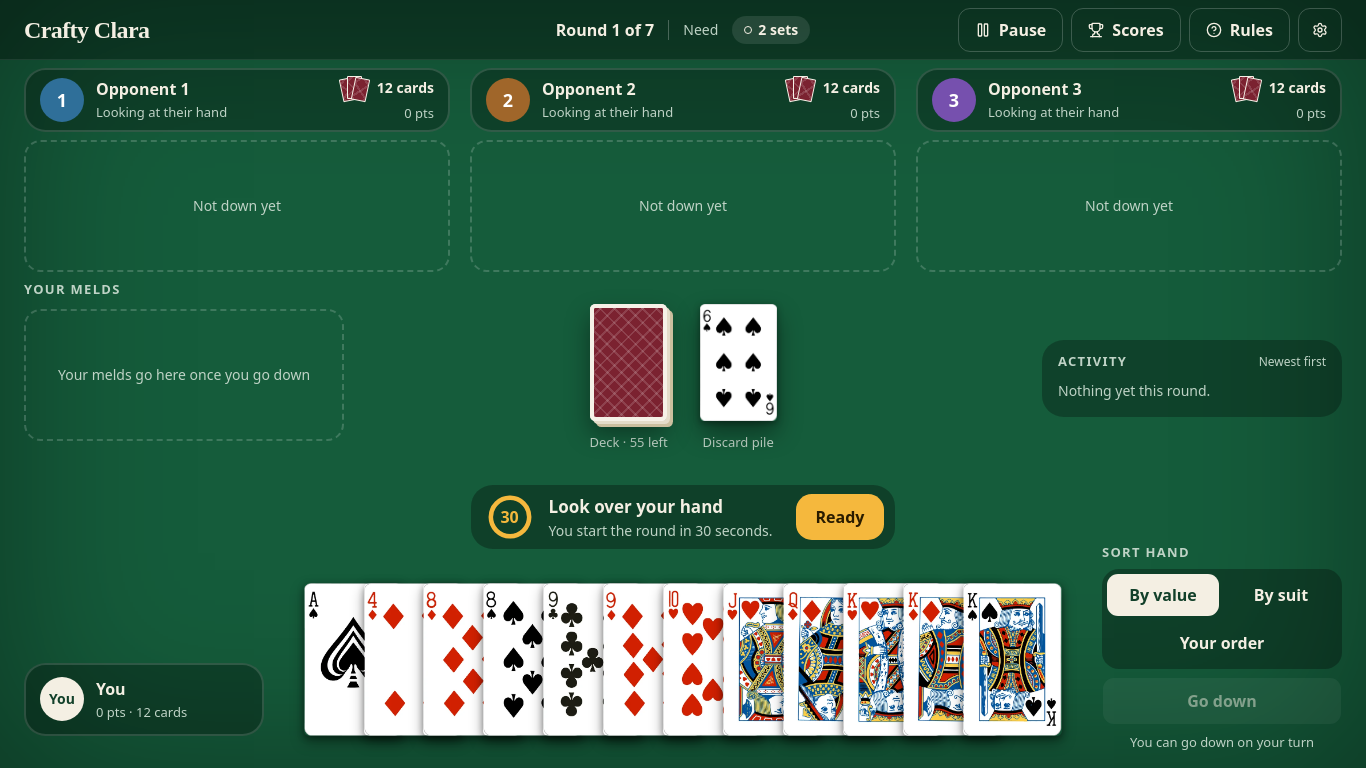
Test: holds the game while the rules, the scores or the settings are open
Check: the element named "Your hand" is shown, box [288,560,1078,752]
What coordinates should you click on to do the following:
click the button "Rules"
I would click on:
 (1239, 30)
Its box is [1189,8,1290,52].
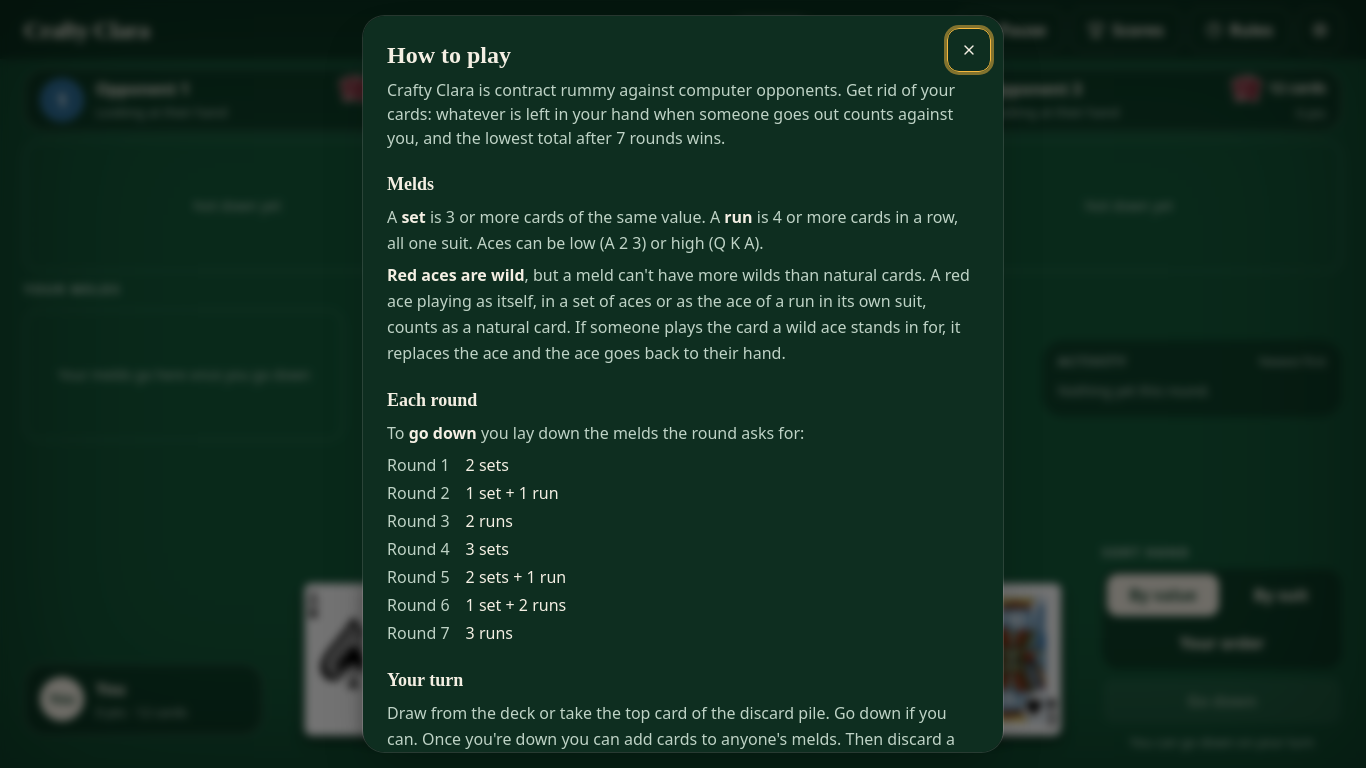
Check: the dialog "Paused" is not shown
What coordinates should you click on to do the following:
click the button named "Close"
I would click on:
 (969, 50)
Its box is [947,28,991,72].
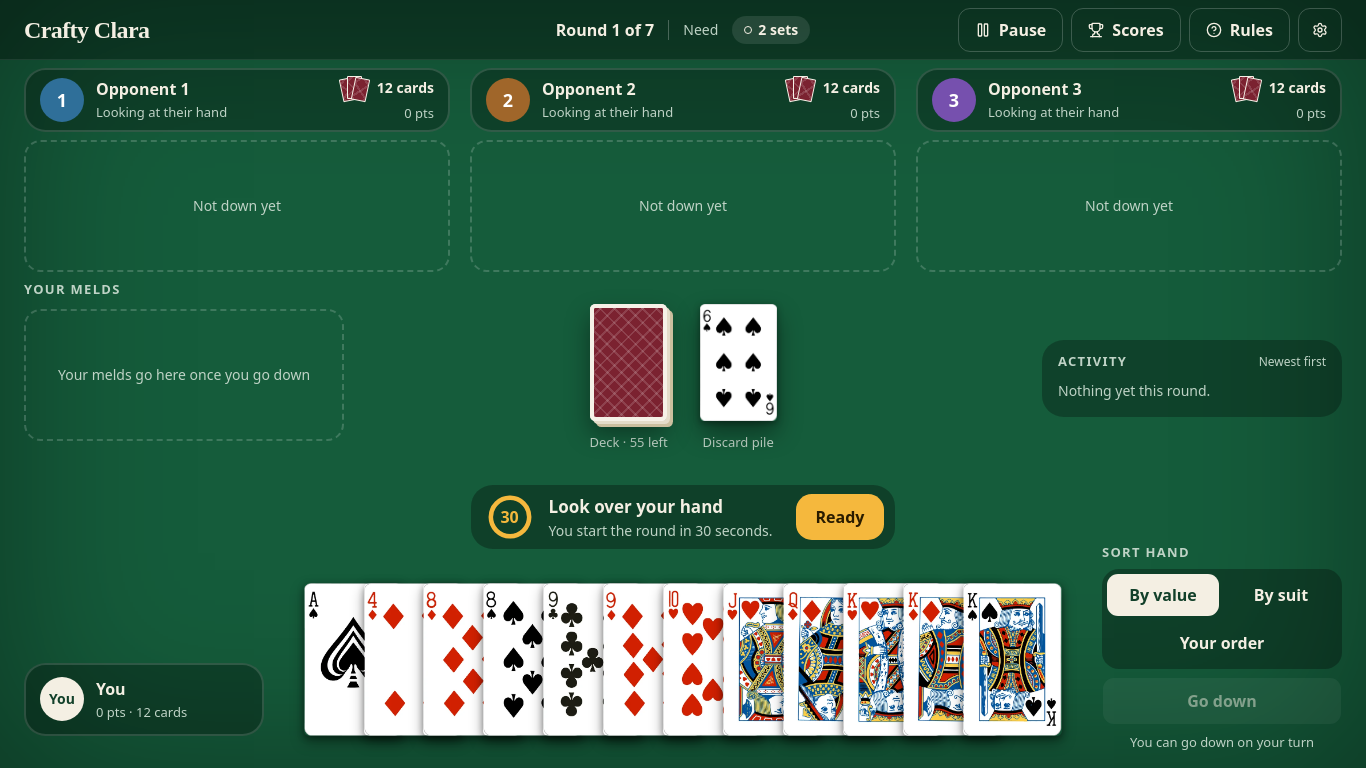
Check: the dialog is gone
What coordinates should you click on to do the following:
click the button "Scores"
I would click on:
 (1126, 30)
Its box is [1071,8,1181,52].
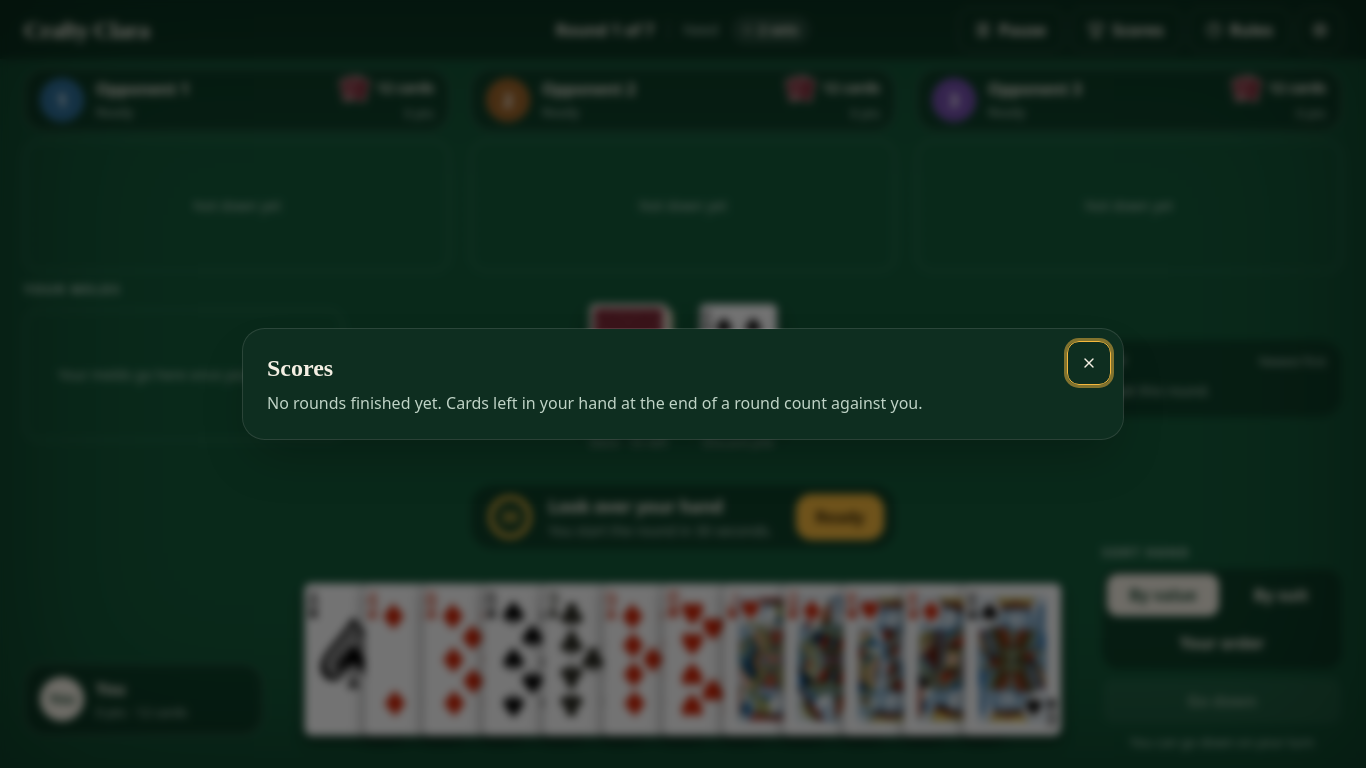
Check: the dialog "Paused" is not shown
What coordinates should you click on to do the following:
click the button named "Close"
I would click on:
 (1089, 363)
Its box is [1067,341,1111,385].
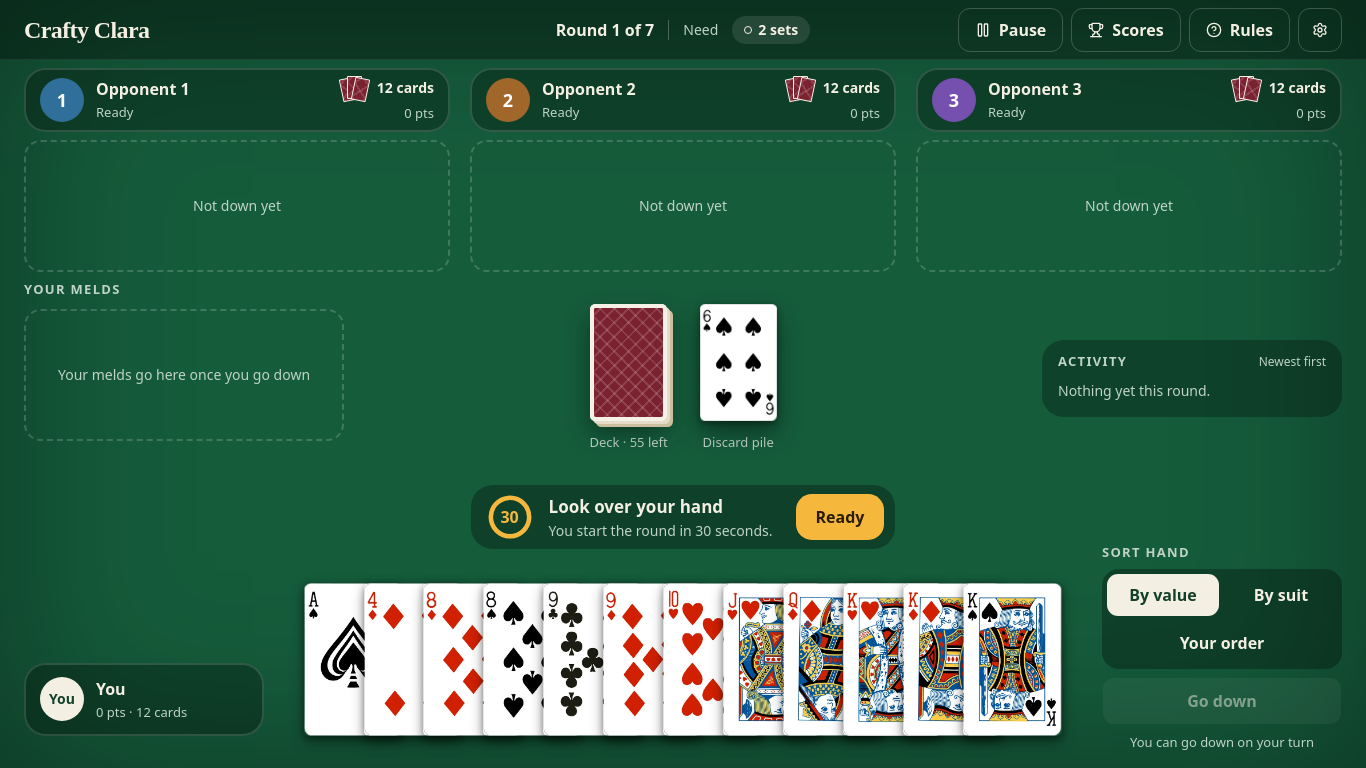
Check: the dialog is gone
What coordinates should you click on to do the following:
click the button named "Settings"
I would click on:
 (1320, 30)
Its box is [1298,8,1342,52].
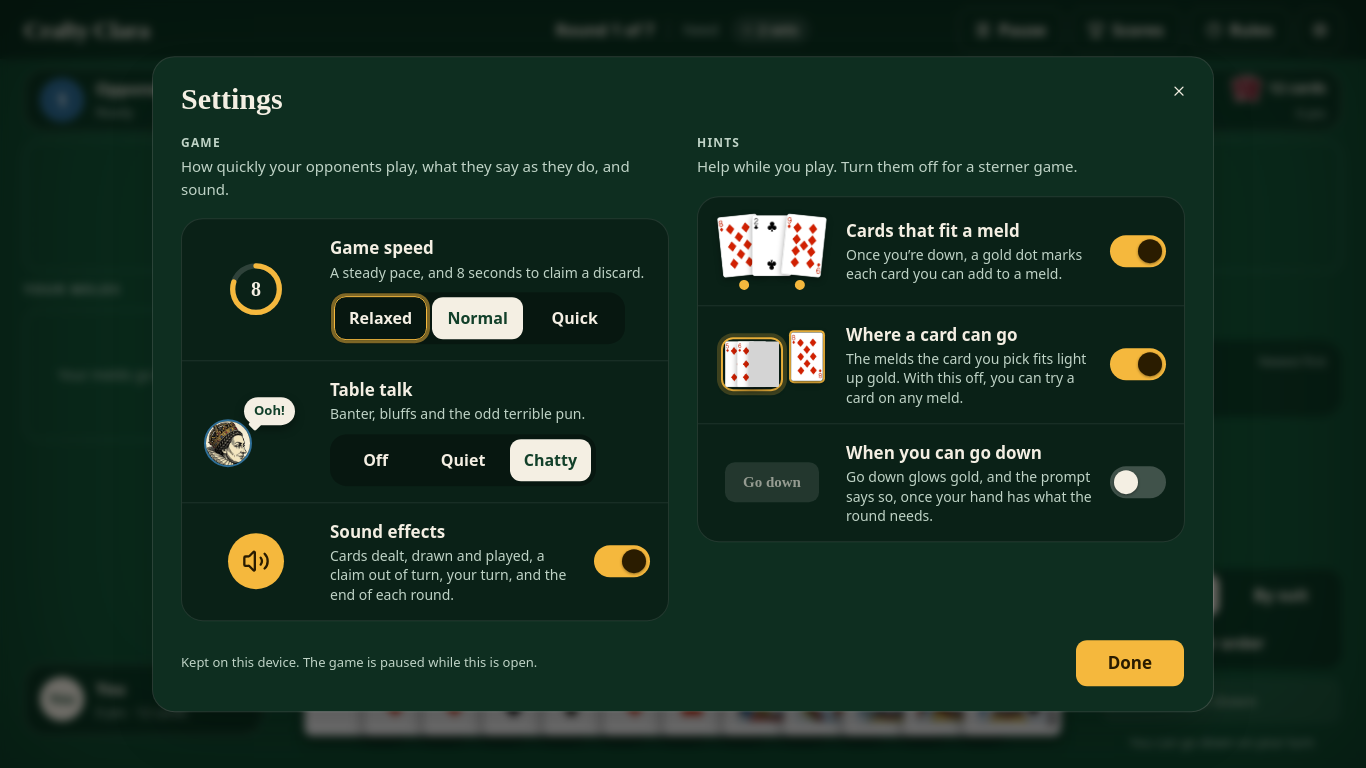
What coordinates should you click on to do the following:
click the button named "Close"
I would click on:
 (1179, 91)
Its box is [1157,69,1201,113].
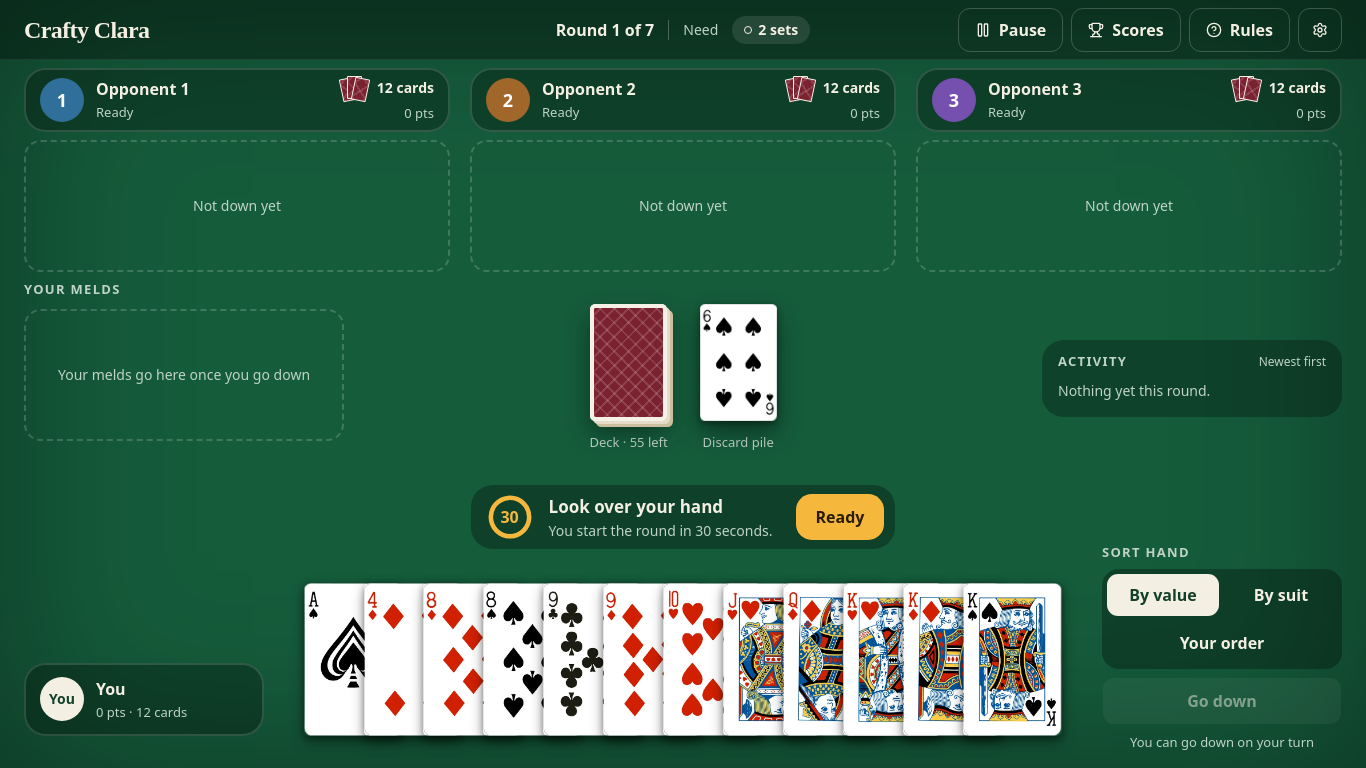
Check: the dialog is gone
